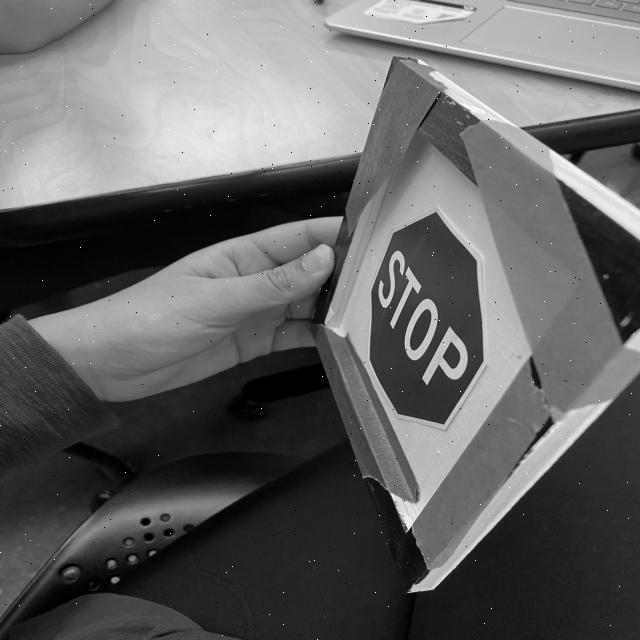stop: (364, 211, 492, 429)
